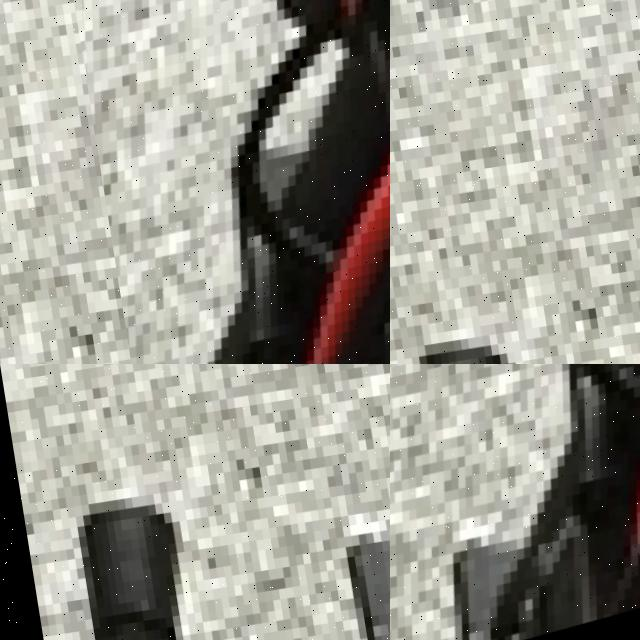drone: (56, 0, 390, 364), (390, 364, 640, 640)
